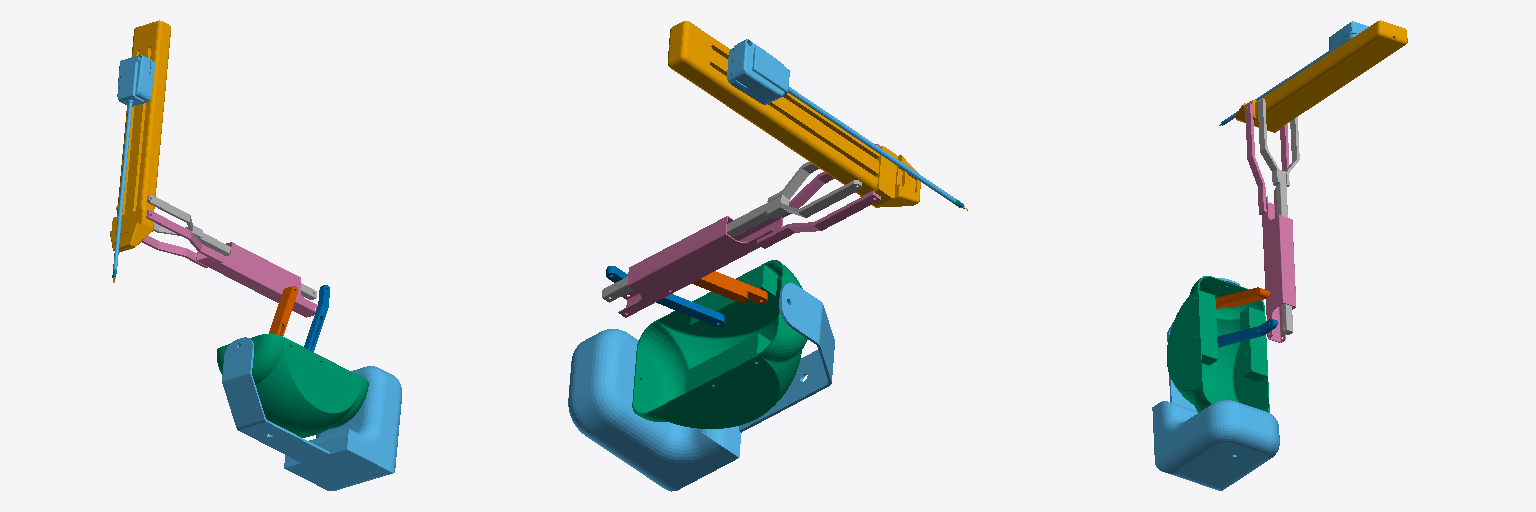
URDF robot description (dvrk_psm):
<?xml version='1.0' encoding='utf-8'?>
<robot name="dvrk_psm">
  <!--Generated by scripts/rebuild_super_psm_from_dvrk_xacro.py from dVRK Classic PSM1 xacro.-->
  <!--Mimic tags are exported to psm_mimic_map.json and removed from URDF for parser compatibility.-->
  <material name="DaVinciWhite">
    <color rgba="1.0 1.0 1.0 1" />
  </material>
  <material name="DaVinciLightGray">
    <color rgba="0.8 0.8 0.8 1" />
  </material>
  <material name="DaVinciMedGray">
    <color rgba="0.6 0.6 0.6 1" />
  </material>
  <material name="DaVinciDarkGray">
    <color rgba="0.4 0.4 0.4 1" />
  </material>
  <material name="DaVinciRed">
    <color rgba="0.5 0.4 0.4 1" />
  </material>
  <material name="DaVinciGreen">
    <color rgba="0.4 0.5 0.4 1" />
  </material>
  <material name="DaVinciBlue">
    <color rgba="0.4 0.4 0.5 1" />
  </material>
  <link name="world" />
  <joint name="fixed" type="fixed">
    <parent link="world" />
    <child link="PSM1_psm_base_link" />
    <origin rpy="0.733342957 0.492181364 2.02256874" xyz="0.0994293715 -0.0484231708 0.0993431732" />
  </joint>
  <link name="PSM1_psm_base_link">
    <visual>
      <origin rpy="1.5708 0 3.1416" xyz="0.039 -0.40788 -0.07879" />
      <geometry>
        <mesh filename="meshes/psm_base.stl" />
      </geometry>
    </visual>
    <collision>
      <origin rpy="1.5708 0 3.1416" xyz="0.039 -0.40788 -0.07879" />
      <geometry>
        <mesh filename="meshes/psm_base.stl" />
      </geometry>
    </collision>
    <inertial>
      <mass value="0.001" />
      <inertia ixx="1e-8" ixy="0" ixz="0" iyy="1e-8" iyz="0" izz="1e-8" />
    </inertial>
  </link>
  <joint name="yaw" type="revolute">
    <parent link="PSM1_psm_base_link" />
    <child link="PSM1_outer_yaw_link" />
    <axis xyz="0 0 1" />
    <origin rpy="0 -1.5708 1.5708" xyz="0.0 0.0 0.0" />
    <limit effort="1000" lower="-1.5707" upper="1.5707" velocity=".4" />
  </joint>
  <link name="PSM1_outer_yaw_link">
    <visual>
      <origin rpy="3.1416 0 1.5708" xyz="0.0125 0 0.5265" />
      <geometry>
        <mesh filename="meshes/outer_yaw.stl" />
      </geometry>
    </visual>
    <collision>
      <origin rpy="3.1416 0 1.5708" xyz="0.0125 0 0.5265" />
      <geometry>
        <mesh filename="meshes/outer_yaw.stl" />
      </geometry>
    </collision>
    <inertial>
      <mass value="0.001" />
      <inertia ixx="1e-8" ixy="0" ixz="0" iyy="1e-8" iyz="0" izz="1e-8" />
    </inertial>
  </link>
  <joint name="pitch" type="revolute">
    <parent link="PSM1_outer_yaw_link" />
    <child link="PSM1_outer_pitch_link" />
    <axis xyz="0 0 1" />
    <origin rpy="-1.5708 -1.5708 0" xyz="0 0 0" />
    <limit effort="1000" lower="-0.7854" upper="0.7854" velocity=".4" />
  </joint>
  <link name="PSM1_outer_pitch_link">
    <collision>
      <origin rpy="0 0 0" xyz="0 0 0" />
      <geometry>
        <box size="0.001 0.001 0.001" />
      </geometry>
    </collision>
    <inertial>
      <mass value="0.001" />
      <inertia ixx="1e-8" ixy="0" ixz="0" iyy="1e-8" iyz="0" izz="1e-8" />
    </inertial>
  </link>
  <joint name="pitch_1" type="continuous">
    <parent link="PSM1_outer_yaw_link" />
    <child link="PSM1_outer_pitch_back_link" />
    <axis xyz="0 0 1" />
    <origin rpy="-1.5708 -1.5708 0" xyz="0 0.0295 0.5185" />
  </joint>
  <link name="PSM1_outer_pitch_back_link">
    <visual>
      <origin rpy="0 0 -0.27129" xyz="0 0 0" />
      <geometry>
        <mesh filename="meshes/outer_pitch_back.stl" />
      </geometry>
    </visual>
    <collision>
      <origin rpy="0 0 -0.27129" xyz="0 0 0" />
      <geometry>
        <mesh filename="meshes/outer_pitch_back.stl" />
      </geometry>
    </collision>
    <inertial>
      <mass value="0.001" />
      <inertia ixx="1e-8" ixy="0" ixz="0" iyy="1e-8" iyz="0" izz="1e-8" />
    </inertial>
  </link>
  <joint name="pitch_2" type="continuous">
    <parent link="PSM1_outer_yaw_link" />
    <child link="PSM1_outer_pitch_front_link" />
    <axis xyz="0 0 1" />
    <origin rpy="-1.5708 -1.5708 0" xyz="0 0.0295 0.4285" />
  </joint>
  <link name="PSM1_outer_pitch_front_link">
    <visual>
      <origin rpy="0 0 -0.27129" xyz="0 0 0" />
      <geometry>
        <mesh filename="meshes/outer_pitch_front.stl" />
      </geometry>
    </visual>
    <collision>
      <origin rpy="0 0 -0.27129" xyz="0 0 0" />
      <geometry>
        <mesh filename="meshes/outer_pitch_front.stl" />
      </geometry>
    </collision>
    <inertial>
      <mass value="0.001" />
      <inertia ixx="1e-8" ixy="0" ixz="0" iyy="1e-8" iyz="0" izz="1e-8" />
    </inertial>
  </link>
  <joint name="pitch_3" type="continuous">
    <parent link="PSM1_outer_pitch_back_link" />
    <child link="PSM1_outer_pitch_bottom_link" />
    <axis xyz="0 0 1" />
    <origin rpy="0 0 0" xyz="0.04178 0.15007 -0.0137" />
  </joint>
  <link name="PSM1_outer_pitch_bottom_link">
    <visual>
      <origin rpy="0 -1.5708 0" xyz="0.009 0 0" />
      <geometry>
        <mesh filename="meshes/outer_pitch_bottom.stl" />
      </geometry>
    </visual>
    <collision>
      <origin rpy="0 -1.5708 0" xyz="0.009 0 0" />
      <geometry>
        <mesh filename="meshes/outer_pitch_bottom.stl" />
      </geometry>
    </collision>
    <inertial>
      <mass value="0.001" />
      <inertia ixx="1e-8" ixy="0" ixz="0" iyy="1e-8" iyz="0" izz="1e-8" />
    </inertial>
  </link>
  <joint name="pitch_4" type="continuous">
    <parent link="PSM1_outer_pitch_back_link" />
    <child link="PSM1_outer_pitch_top_link" />
    <axis xyz="0 0 1" />
    <origin rpy="0 0 0" xyz="0.04209 0.18695 -0.02412" />
  </joint>
  <link name="PSM1_outer_pitch_top_link">
    <visual>
      <origin rpy="0 -1.5708 0" xyz="0.009 0 0" />
      <geometry>
        <mesh filename="meshes/outer_pitch_top.stl" />
      </geometry>
    </visual>
    <collision>
      <origin rpy="0 -1.5708 0" xyz="0.009 0 0" />
      <geometry>
        <mesh filename="meshes/outer_pitch_top.stl" />
      </geometry>
    </collision>
    <inertial>
      <mass value="0.001" />
      <inertia ixx="1e-8" ixy="0" ixz="0" iyy="1e-8" iyz="0" izz="1e-8" />
    </inertial>
  </link>
  <joint name="pitch_5" type="continuous">
    <parent link="PSM1_outer_pitch_bottom_link" />
    <child link="PSM1_outer_insertion_link" />
    <axis xyz="0 0 1" />
    <origin rpy="0 0 0" xyz="-0.520 0 -0.0155" />
  </joint>
  <link name="PSM1_outer_insertion_link">
    <visual>
      <origin rpy="0 -1.5708 1.5708" xyz="0.02528 0.429 0" />
      <geometry>
        <mesh filename="meshes/outer_insertion.stl" />
      </geometry>
    </visual>
    <collision>
      <origin rpy="0 -1.5708 1.5708" xyz="0.02528 0.429 0" />
      <geometry>
        <mesh filename="meshes/outer_insertion.stl" />
      </geometry>
    </collision>
    <inertial>
      <mass value="0.001" />
      <inertia ixx="1e-8" ixy="0" ixz="0" iyy="1e-8" iyz="0" izz="1e-8" />
    </inertial>
  </link>
  <joint name="insertion" type="prismatic">
    <parent link="PSM1_outer_pitch_link" />
    <child link="PSM1_tool_main_link" />
    <axis xyz="0 0 1" />
    <origin rpy="1.5708 0 0" xyz="0 0.4318 0" />
    <limit effort="1000" lower="0" upper="0.240" velocity=".4" />
  </joint>
  <link name="PSM1_tool_main_link">
    <visual>
      <origin rpy="0 0 1.5708" xyz="0 0 0.041" />
      <geometry>
        <mesh filename="meshes/tool_main.stl" />
      </geometry>
    </visual>
    <collision>
      <origin rpy="0 0 1.5708" xyz="0 0 0.041" />
      <geometry>
        <mesh filename="meshes/tool_main.stl" />
      </geometry>
    </collision>
    <inertial>
      <mass value="0.001" />
      <inertia ixx="1e-8" ixy="0" ixz="0" iyy="1e-8" iyz="0" izz="1e-8" />
    </inertial>
  </link>
  <joint name="roll" type="revolute">
    <parent link="PSM1_tool_main_link" />
    <child link="PSM1_tool_wrist_link" />
    <axis xyz="0 0 1" />
    <origin rpy="0 0 0" xyz="0 0 0.4162" />
    <limit effort="1000" lower="-3.5" upper="3.5" velocity=".4" />
  </joint>
  <link name="PSM1_tool_wrist_link">
    <visual>
      <origin rpy="0 0 1.5708" xyz="0 0 -0.0091" />
      <geometry>
        <mesh filename="meshes/tool_wrist_link.stl" />
      </geometry>
    </visual>
    <collision>
      <origin rpy="0 0 1.5708" xyz="0 0 -0.0091" />
      <geometry>
        <mesh filename="meshes/tool_wrist_link.stl" />
      </geometry>
    </collision>
    <inertial>
      <mass value="0.001" />
      <inertia ixx="1e-8" ixy="0" ixz="0" iyy="1e-8" iyz="0" izz="1e-8" />
    </inertial>
  </link>
  <joint name="roll_shaft" type="fixed">
    <parent link="PSM1_tool_wrist_link" />
    <child link="PSM1_tool_wrist_shaft_link" />
    <axis xyz="0 0 1" />
    <origin rpy="0 0 0" xyz="0 0 0.0" />
  </joint>
  <link name="PSM1_tool_wrist_shaft_link">
    <visual>
      <origin rpy="1.5708 0 0" xyz="0 0.00401 0" />
      <geometry>
        <mesh filename="meshes/tool_wrist_shaft_link.stl" />
      </geometry>
    </visual>
    <collision>
      <origin rpy="1.5708 0 0" xyz="0 0.00401 0" />
      <geometry>
        <mesh filename="meshes/tool_wrist_shaft_link.stl" />
      </geometry>
    </collision>
    <inertial>
      <mass value="0.001" />
      <inertia ixx="1e-8" ixy="0" ixz="0" iyy="1e-8" iyz="0" izz="1e-8" />
    </inertial>
  </link>
  <joint name="wrist_pitch" type="revolute">
    <parent link="PSM1_tool_wrist_shaft_link" />
    <child link="PSM1_tool_wrist_sca_link" />
    <axis xyz="0 0 1" />
    <origin rpy="-1.5708 -1.5708 0" xyz="0 0 0" />
    <limit effort="1000" lower="-1.5707" upper="1.5707" velocity=".4" />
  </joint>
  <link name="PSM1_tool_wrist_sca_link">
    <visual>
      <origin rpy="1.5708 3.1416 0" xyz="0.0051 0.0032 0" />
      <geometry>
        <mesh filename="meshes/tool_wrist_sca_link.stl" />
      </geometry>
    </visual>
    <collision>
      <origin rpy="1.5708 3.1416 0" xyz="0.0051 0.0032 0" />
      <geometry>
        <mesh filename="meshes/tool_wrist_sca_link.stl" />
      </geometry>
    </collision>
    <inertial>
      <mass value="0.001" />
      <inertia ixx="1e-8" ixy="0" ixz="0" iyy="1e-8" iyz="0" izz="1e-8" />
    </inertial>
  </link>
  <joint name="wrist_yaw" type="revolute">
    <parent link="PSM1_tool_wrist_sca_link" />
    <child link="PSM1_tool_wrist_sca_shaft_link" />
    <axis xyz="0 0 1" />
    <origin rpy="-1.5708 -1.5708 0" xyz="0.0091 0 0" />
    <limit effort="1000" lower="-1.3963" upper="1.3963" velocity=".4" />
  </joint>
  <link name="PSM1_tool_wrist_sca_shaft_link">
    <visual>
      <origin rpy="0 0 0" xyz="0 -0.0002 -0.0025" />
      <geometry>
        <mesh filename="meshes/tool_wrist_sca_shaft_link.stl" />
      </geometry>
    </visual>
    <collision>
      <origin rpy="0 0 0" xyz="0 -0.0002 -0.0025" />
      <geometry>
        <mesh filename="meshes/tool_wrist_sca_shaft_link.stl" />
      </geometry>
    </collision>
    <inertial>
      <mass value="0.001" />
      <inertia ixx="1e-8" ixy="0" ixz="0" iyy="1e-8" iyz="0" izz="1e-8" />
    </inertial>
  </link>
  <joint name="jaw" type="revolute">
    <parent link="PSM1_tool_wrist_sca_shaft_link" />
    <child link="PSM1_tool_wrist_sca_ee_link_0" />
    <axis xyz="0 0 1" />
    <origin rpy="0 0 0" xyz="0 0 0" />
    <limit effort="1000" lower="-1.2" upper="1.6" velocity=".4" />
  </joint>
  <link name="PSM1_tool_wrist_sca_ee_link_0">
    <visual>
      <origin rpy="0 0 0" xyz="0 0 0" />
      <geometry>
        <box size="0 0 0" />
      </geometry>
    </visual>
    <collision>
      <origin rpy="0 0 0" xyz="0 0 0" />
      <geometry>
        <box size="0 0 0" />
      </geometry>
    </collision>
    <inertial>
      <mass value="0.001" />
      <inertia ixx="1e-8" ixy="0" ixz="0" iyy="1e-8" iyz="0" izz="1e-8" />
    </inertial>
  </link>
  <joint name="jaw_mimic_1" type="revolute">
    <parent link="PSM1_tool_wrist_sca_shaft_link" />
    <child link="PSM1_tool_wrist_sca_ee_link_1" />
    <axis xyz="0 0 1" />
    <origin rpy="0 0 0" xyz="0 0 0" />
    <limit effort="1000" lower="-1.5707" upper="1.5707" velocity=".4" />
  </joint>
  <link name="PSM1_tool_wrist_sca_ee_link_1">
    <visual>
      <origin rpy="0 0 0" xyz="0 0 0" />
      <geometry>
        <mesh filename="meshes/tool_wrist_sca_link_2.stl" />
      </geometry>
    </visual>
    <collision>
      <origin rpy="0 0 0" xyz="0 0 0" />
      <geometry>
        <mesh filename="meshes/tool_wrist_sca_link_2.stl" />
      </geometry>
    </collision>
    <inertial>
      <mass value="0.001" />
      <inertia ixx="1e-8" ixy="0" ixz="0" iyy="1e-8" iyz="0" izz="1e-8" />
    </inertial>
  </link>
  <joint name="jaw_mimic_2" type="revolute">
    <parent link="PSM1_tool_wrist_sca_shaft_link" />
    <child link="PSM1_tool_wrist_sca_ee_link_2" />
    <axis xyz="0 0 1" />
    <origin rpy="0 0 0" xyz="0 0 0" />
    <limit effort="1000" lower="-1.5707" upper="1.5707" velocity=".4" />
  </joint>
  <link name="PSM1_tool_wrist_sca_ee_link_2">
    <visual>
      <origin rpy="0 3.1516 0" xyz="0 0 0" />
      <geometry>
        <mesh filename="meshes/tool_wrist_sca_link_2.stl" />
      </geometry>
    </visual>
    <collision>
      <origin rpy="0 3.1516 0" xyz="0 0 0" />
      <geometry>
        <mesh filename="meshes/tool_wrist_sca_link_2.stl" />
      </geometry>
    </collision>
    <inertial>
      <mass value="0.001" />
      <inertia ixx="1e-8" ixy="0" ixz="0" iyy="1e-8" iyz="0" izz="1e-8" />
    </inertial>
  </link>
  <joint name="tool_tip" type="fixed">
    <parent link="PSM1_tool_wrist_sca_shaft_link" />
    <child link="PSM1_tool_tip_link" />
    <origin rpy="0 1.5707963267948966 1.5707963267948966" xyz="0 0.0102 0" />
  </joint>
  <link name="PSM1_tool_tip_link">
    <collision>
      <origin rpy="0 0 0" xyz="0 0 0" />
      <geometry>
        <sphere radius="0.001" />
      </geometry>
    </collision>
    <inertial>
      <mass value="0.001" />
      <inertia ixx="1e-8" ixy="0" ixz="0" iyy="1e-8" iyz="0" izz="1e-8" />
    </inertial>
  </link>
</robot>

--- What the picture shows (computed from the rendered views, not written in the file) ---
The picture shows the robot from 3 angles, left to right: view 1: azimuth 30°, elevation 25°; view 2: azimuth 150°, elevation 25°; view 3: azimuth 270°, elevation 25°; orthographic projection.
Model dvrk_psm with 18 links and 17 joints (8 revolute, 5 continuous, 1 prismatic, 3 fixed), rooted at world, posed every joint at zero.
Visible links, largest first — view 1: PSM1_psm_base_link, PSM1_outer_yaw_link, PSM1_outer_insertion_link, PSM1_outer_pitch_bottom_link, PSM1_tool_main_link, PSM1_outer_pitch_top_link, PSM1_outer_pitch_front_link, PSM1_outer_pitch_back_link; view 2: PSM1_outer_yaw_link, PSM1_psm_base_link, PSM1_outer_insertion_link, PSM1_outer_pitch_bottom_link, PSM1_tool_main_link, PSM1_outer_pitch_top_link, PSM1_outer_pitch_front_link, PSM1_outer_pitch_back_link; view 3: PSM1_outer_yaw_link, PSM1_psm_base_link, PSM1_outer_insertion_link, PSM1_outer_pitch_bottom_link, PSM1_outer_pitch_top_link, PSM1_tool_main_link, PSM1_outer_pitch_front_link, PSM1_outer_pitch_back_link.
Link boxes in pixels (left/top/right/bottom): PSM1_psm_base_link: left=222, top=337, right=401, bottom=490; PSM1_outer_yaw_link: left=217, top=334, right=368, bottom=437; PSM1_outer_insertion_link: left=110, top=20, right=170, bottom=252; PSM1_outer_pitch_bottom_link: left=142, top=210, right=317, bottom=317; PSM1_tool_main_link: left=113, top=55, right=154, bottom=269; PSM1_outer_pitch_top_link: left=116, top=195, right=316, bottom=299; PSM1_outer_pitch_front_link: left=269, top=286, right=297, bottom=335; PSM1_outer_pitch_back_link: left=304, top=285, right=329, bottom=351; PSM1_outer_yaw_link: left=632, top=260, right=807, bottom=428; PSM1_psm_base_link: left=568, top=283, right=834, bottom=491; PSM1_outer_insertion_link: left=668, top=21, right=920, bottom=207; PSM1_outer_pitch_bottom_link: left=618, top=144, right=881, bottom=317; PSM1_tool_main_link: left=727, top=39, right=955, bottom=203; PSM1_outer_pitch_top_link: left=602, top=162, right=861, bottom=302; PSM1_outer_pitch_front_link: left=692, top=271, right=767, bottom=304; PSM1_outer_pitch_back_link: left=606, top=266, right=724, bottom=326; PSM1_outer_yaw_link: left=1167, top=276, right=1269, bottom=412; PSM1_psm_base_link: left=1152, top=278, right=1279, bottom=490; PSM1_outer_insertion_link: left=1236, top=20, right=1407, bottom=132; PSM1_outer_pitch_bottom_link: left=1245, top=103, right=1295, bottom=342; PSM1_outer_pitch_top_link: left=1258, top=98, right=1299, bottom=334; PSM1_tool_main_link: left=1226, top=21, right=1368, bottom=122; PSM1_outer_pitch_front_link: left=1215, top=287, right=1269, bottom=308; PSM1_outer_pitch_back_link: left=1217, top=319, right=1277, bottom=347.
Bounding box of the posed robot: 0.6682 × 0.5222 × 0.9585 m (x, y, z).
14 mesh visuals loaded from 13 distinct referenced files (13 binary STL).
